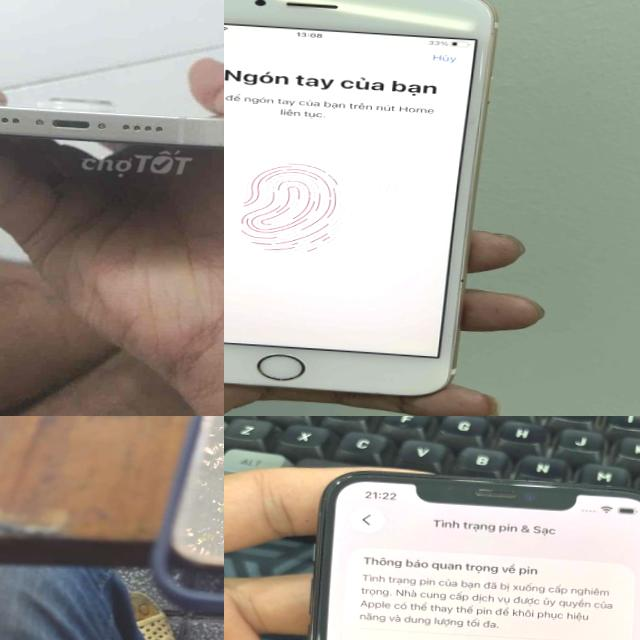scratch: (195, 114, 220, 126), (215, 135, 224, 152)
